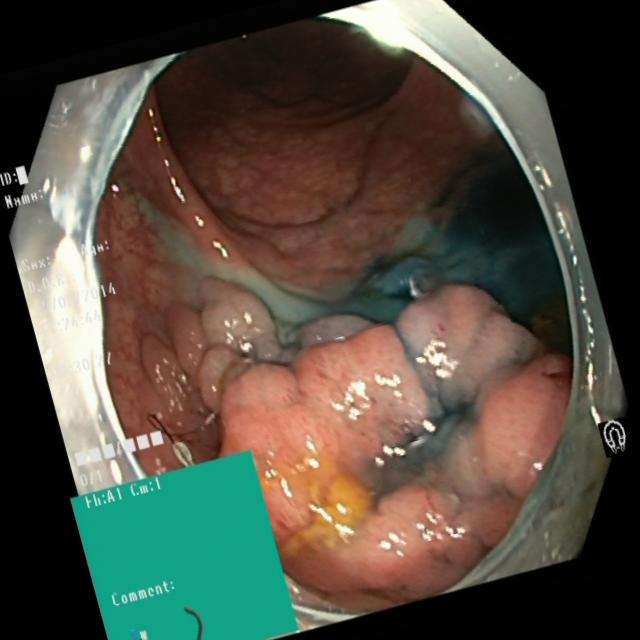dyed-lifted-polyps: (122, 265, 584, 591)
